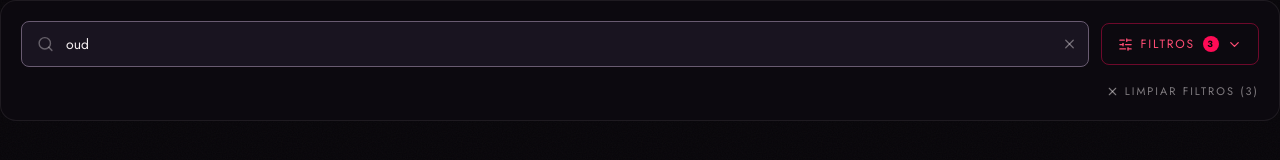
Scenario: filters still work › shows the active count and clears everything back to /products
What coordinates should you click on to do the following:
click the button "Limpiar filtros (3)"
I would click on:
 (1182, 91)
Its box is [1106, 83, 1259, 100].
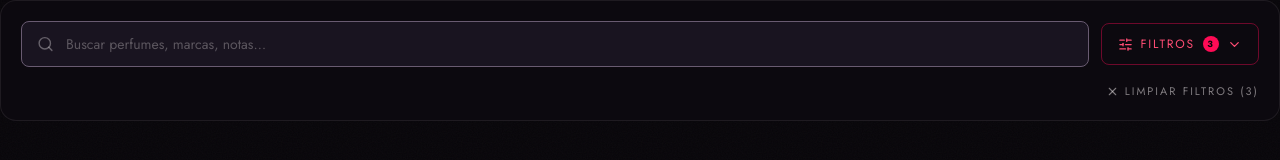
Expected: the field labelled "Buscar perfumes" is empty, [21, 21, 1088, 67]
